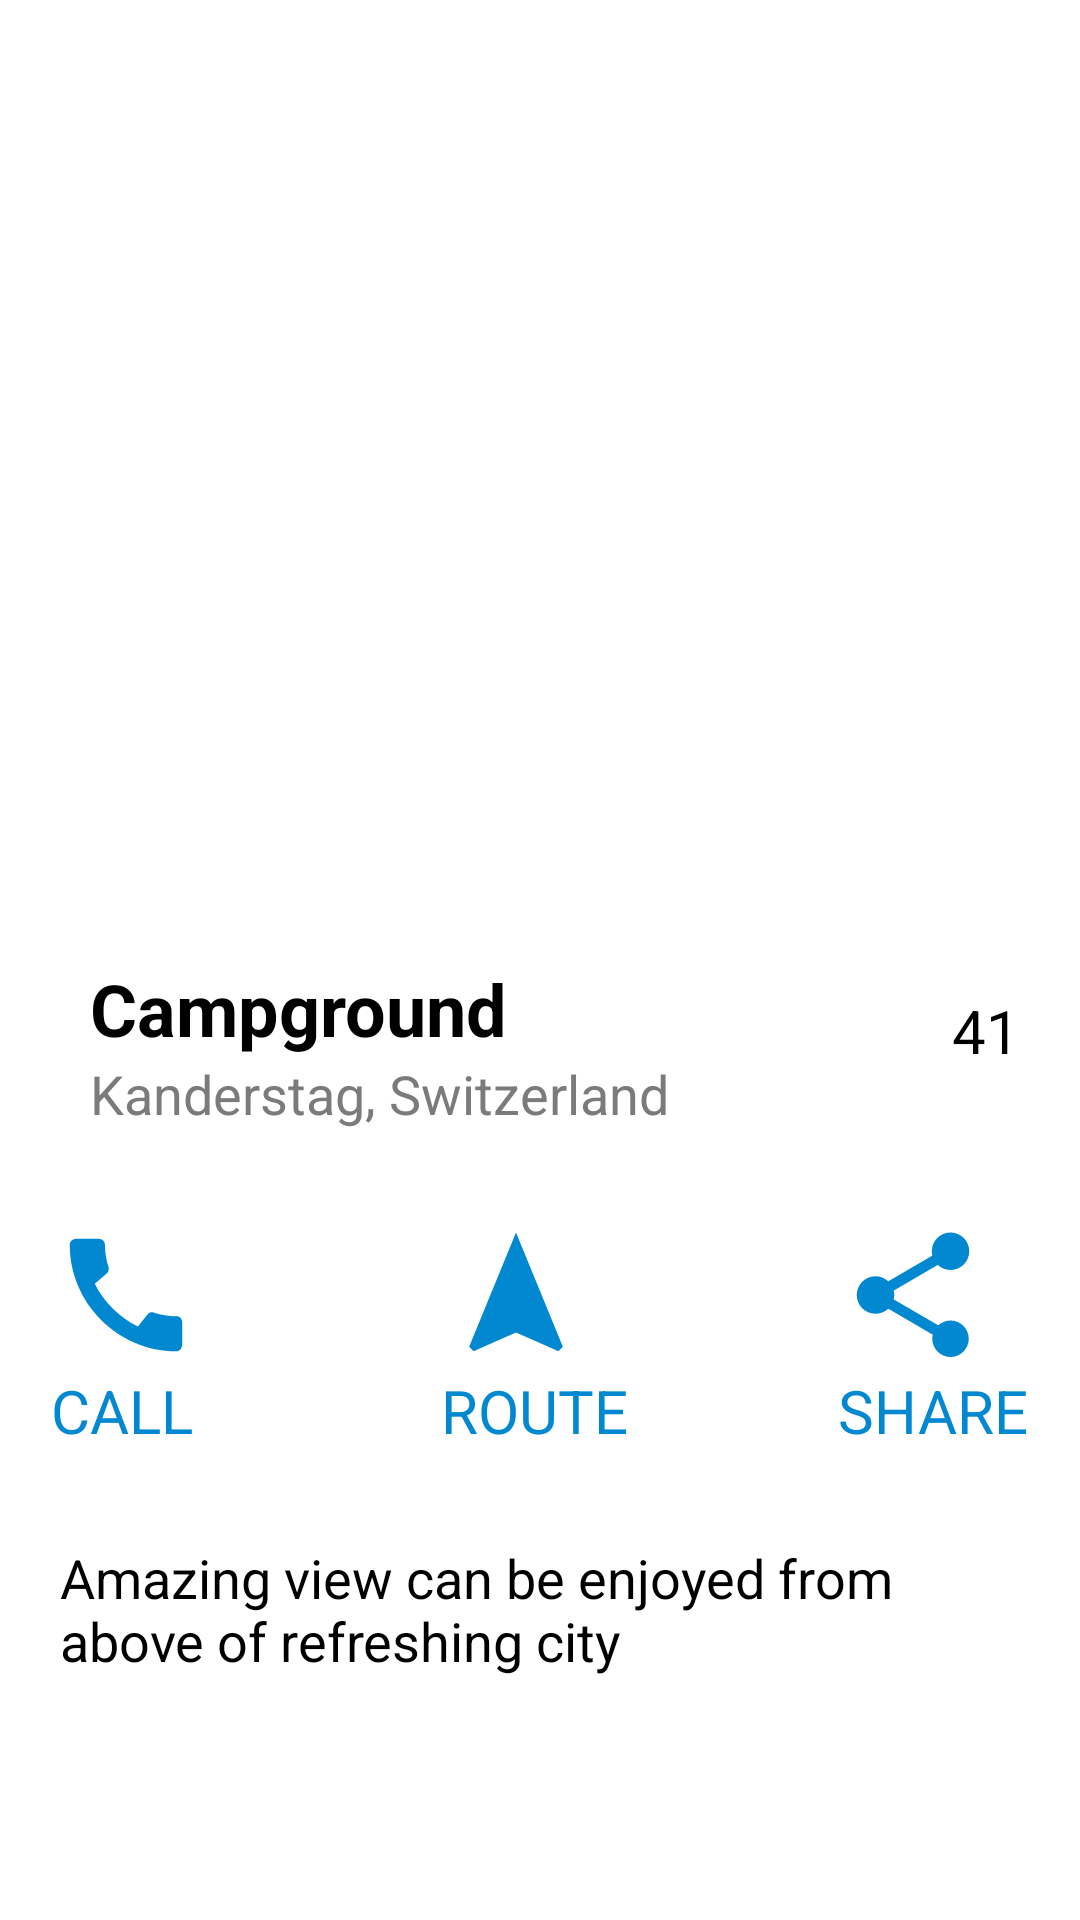

Icon click points for this 1080px×1920px phone screenshot, format (x=x, y=y):
navigation: (x=516, y=1292)
